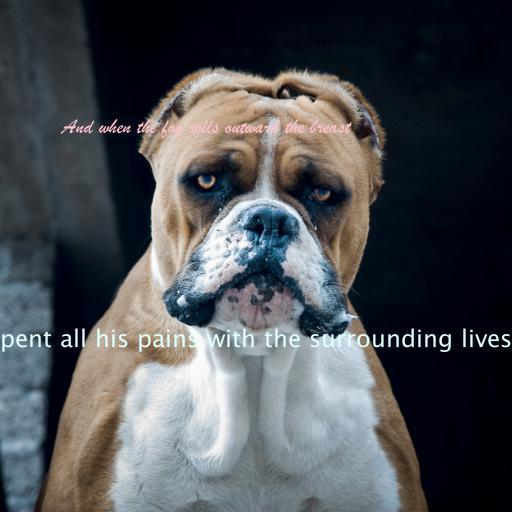Brush Script MT: (62, 119, 350, 139)
Lucida Grande: (0, 328, 512, 352)
